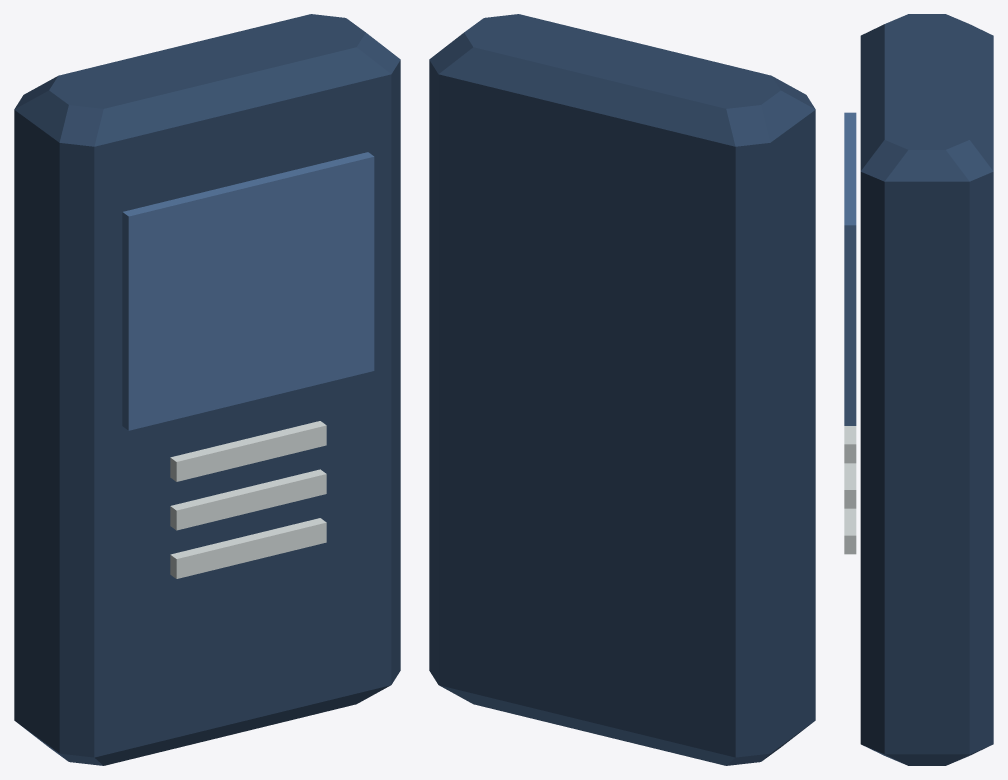
File: terminal.glb
3 renders of one model, left to right at view 1: azimuth 30°, elevation 25°; view 2: azimuth 150°, elevation 25°; view 3: azimuth 270°, elevation 25°, orthographic. The views are drawn at different scales.
Visible parts, largest first — view 1: _MeshInstance3D_728, _MeshInstance3D_729, _MeshInstance3D_731, _MeshInstance3D_730, _MeshInstance3D_732; view 2: _MeshInstance3D_728; view 3: _MeshInstance3D_728, _MeshInstance3D_729, _MeshInstance3D_730, _MeshInstance3D_731, _MeshInstance3D_732.
Boxes of the visible parts, left/top/right/bottom form: _MeshInstance3D_728: left=14, top=14, right=400, bottom=765; _MeshInstance3D_729: left=122, top=152, right=374, bottom=430; _MeshInstance3D_731: left=170, top=469, right=326, bottom=530; _MeshInstance3D_730: left=170, top=518, right=326, bottom=578; _MeshInstance3D_732: left=170, top=421, right=326, bottom=481; _MeshInstance3D_728: left=429, top=14, right=815, bottom=765; _MeshInstance3D_728: left=860, top=14, right=993, bottom=765; _MeshInstance3D_729: left=844, top=112, right=856, bottom=425; _MeshInstance3D_730: left=844, top=508, right=856, bottom=554; _MeshInstance3D_731: left=844, top=463, right=856, bottom=508; _MeshInstance3D_732: left=844, top=426, right=856, bottom=463.
Size of the model in its own units: 0.25 by 0.46 by 0.101.
